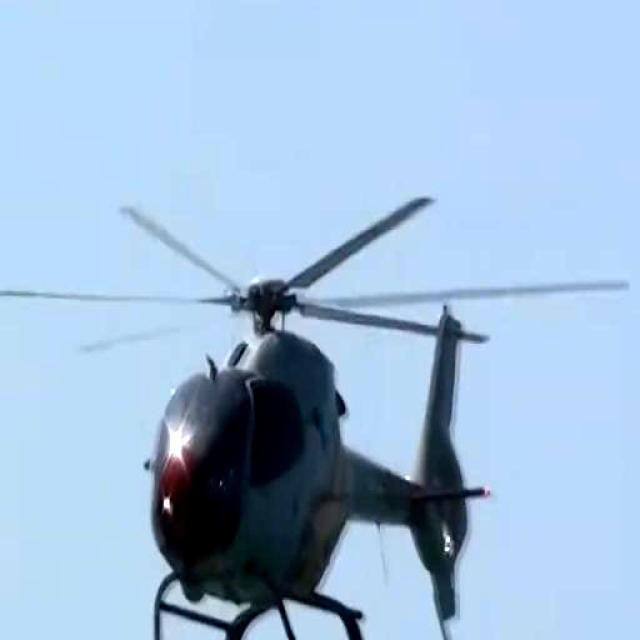drone: (100, 179, 522, 640)
